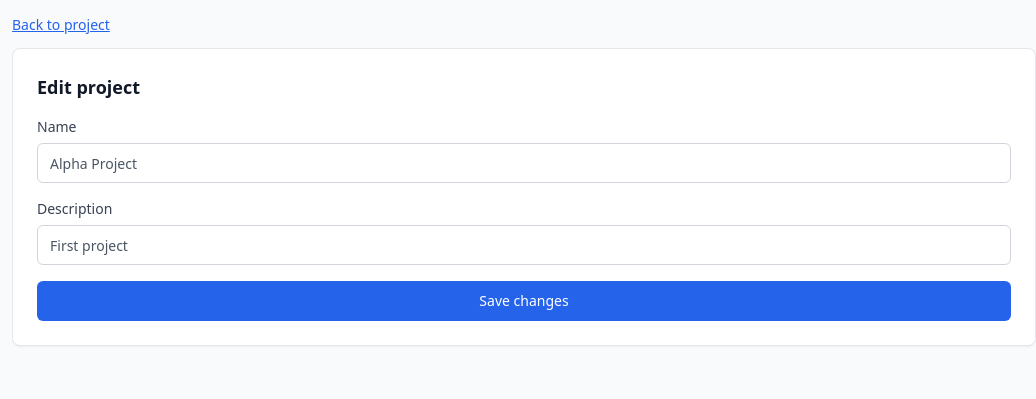
Test case: Project create/edit validation + delete confirmation (behavior) › edit shows client validation handled by schema (behavior)
Clear the field labelled "Name" at {"x": 524, "y": 163}, box left=37, top=143, right=1011, bottom=183
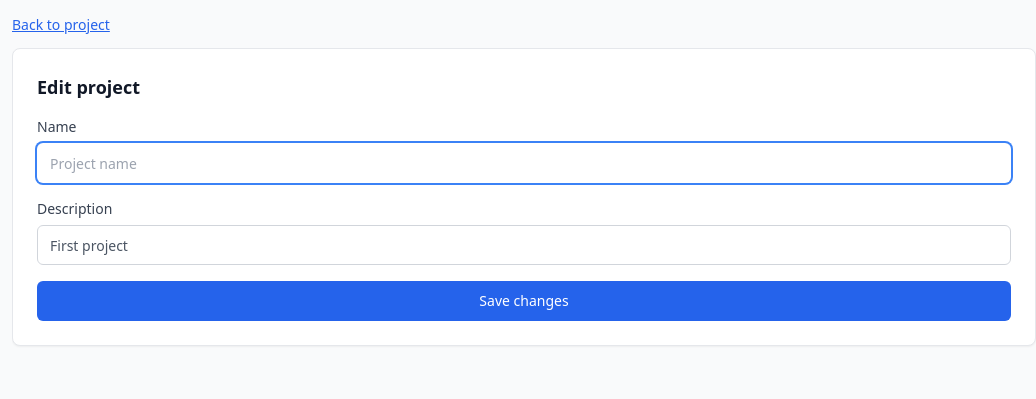
Click the button "Save changes" at {"x": 524, "y": 301}, box left=37, top=281, right=1011, bottom=321
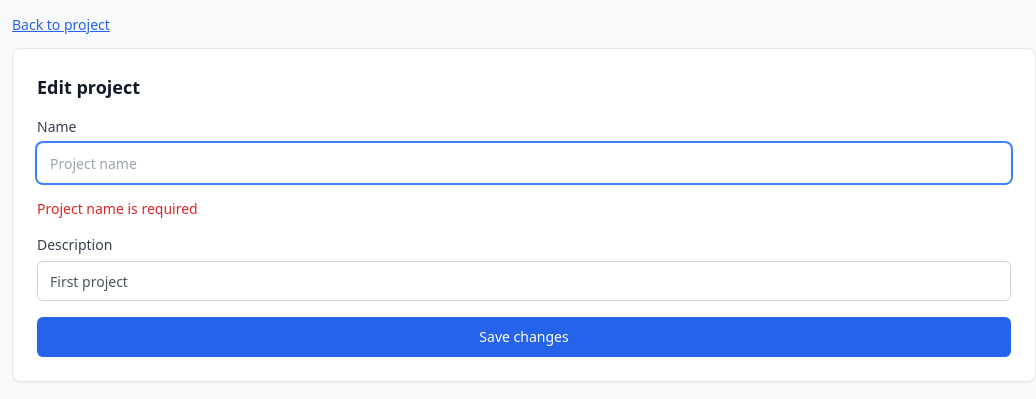
expect the text "Project name is required" is shown: met, box left=37, top=199, right=198, bottom=218
